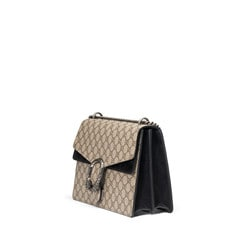Gucci: (63, 101, 181, 224), (77, 121, 130, 154), (84, 155, 108, 195)
